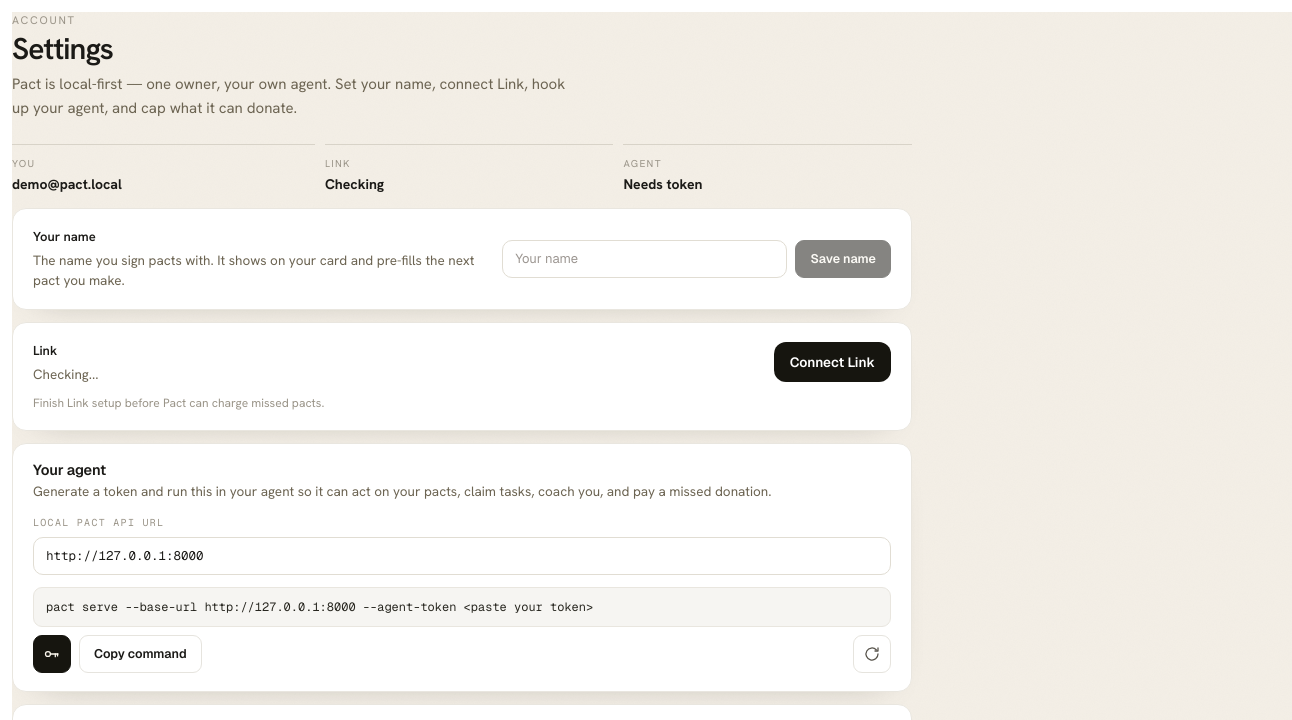
Test: Settings › saves an explicit name to local display storage
Type "Grace Hopper" into the field labelled "Your name" at (645, 259), box [502,240,787,278]
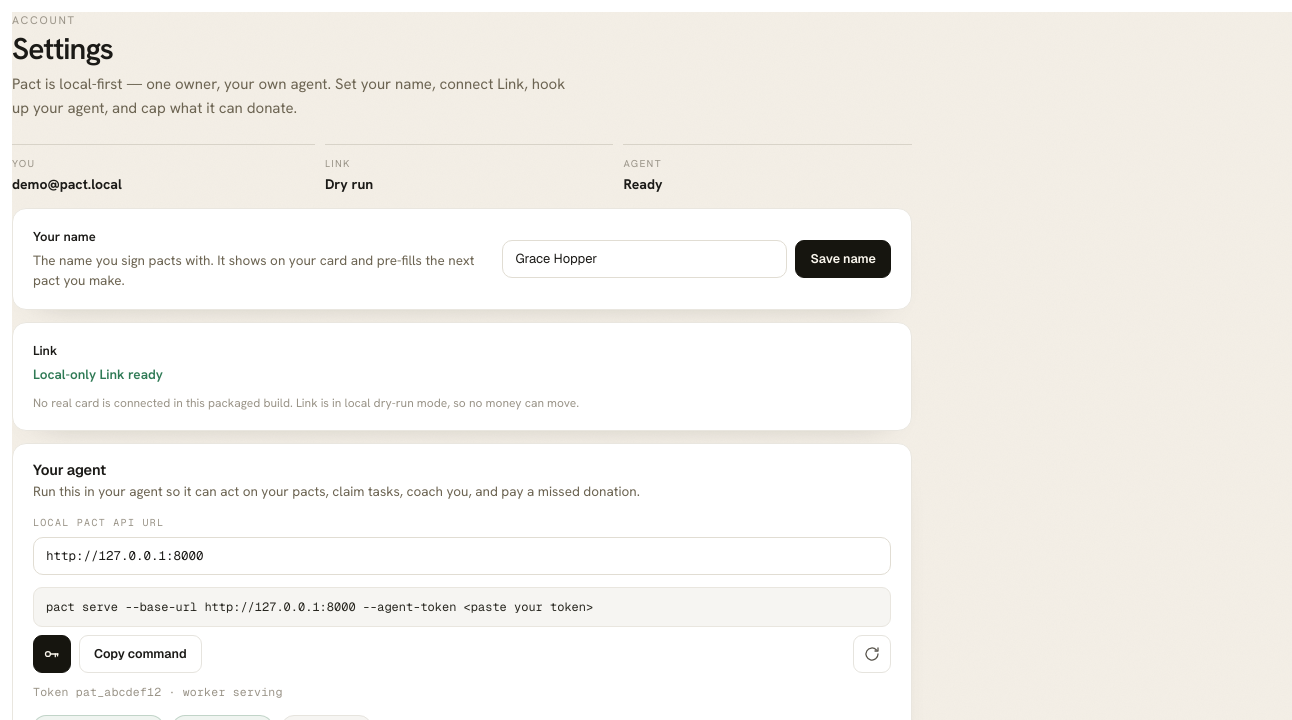
Click the button "Save name" at (843, 259), box [795,240,891,278]
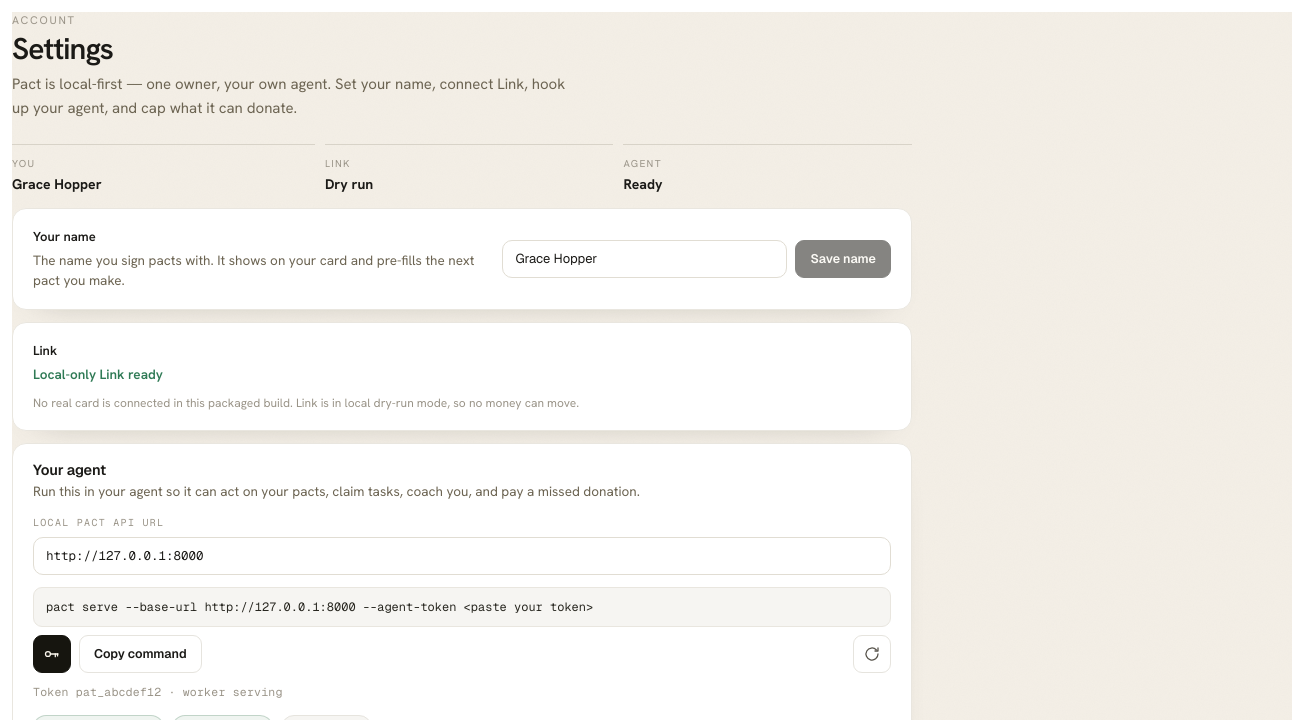
expect the text "Grace Hopper" is shown: met, box [12,175,102,193]
